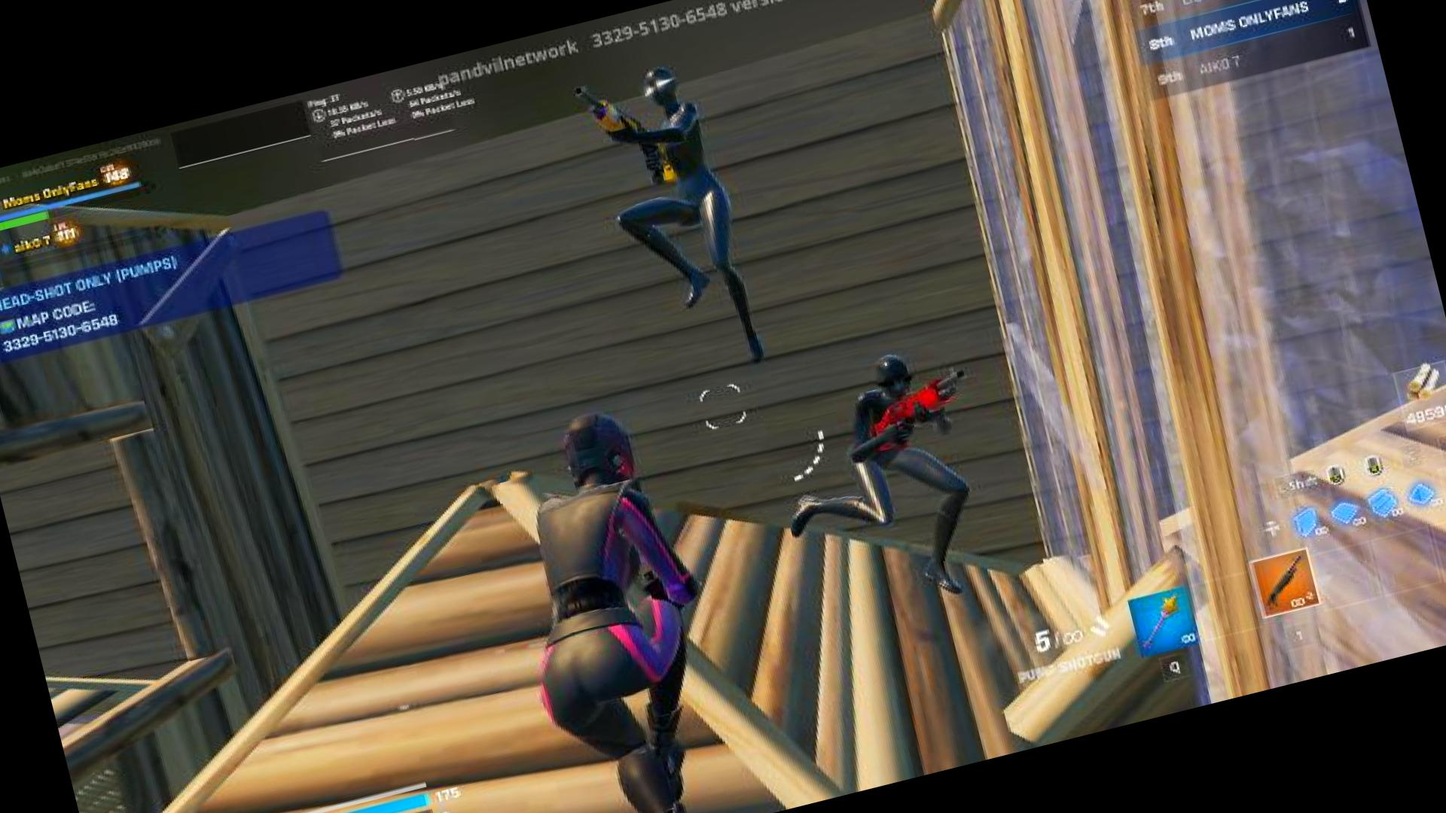player: (577, 33, 839, 392), (750, 339, 1005, 633)
